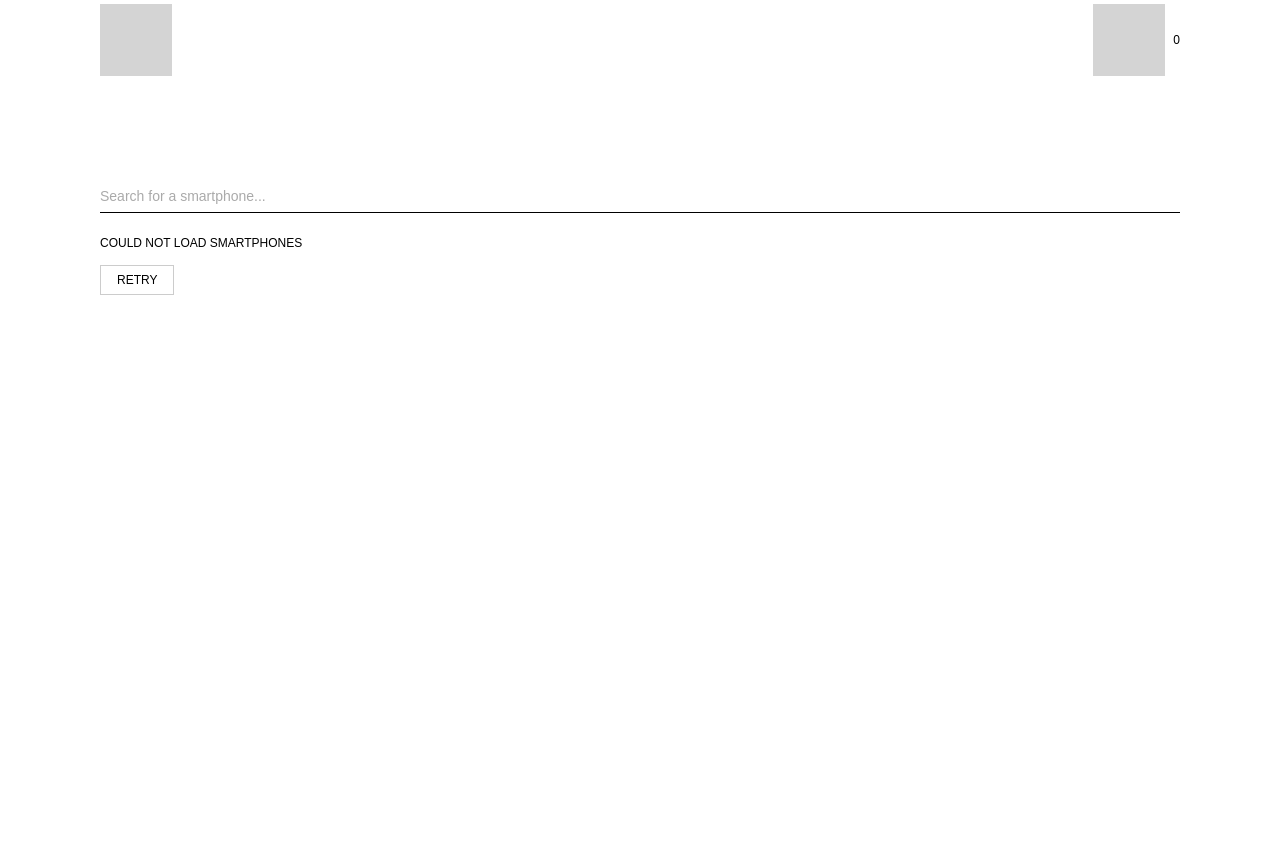
Test: catalog error state › shows the alert and RETRY, then recovers and focuses the search
The image size is (1280, 862).
expect the message reads "COULD NOT LOAD SMARTPHONES": met, box [100,236,302,250]
expect the text "RESULTS" is not shown: met
Click the button "RETRY".
click(137, 280)  # box [100,265,174,295]
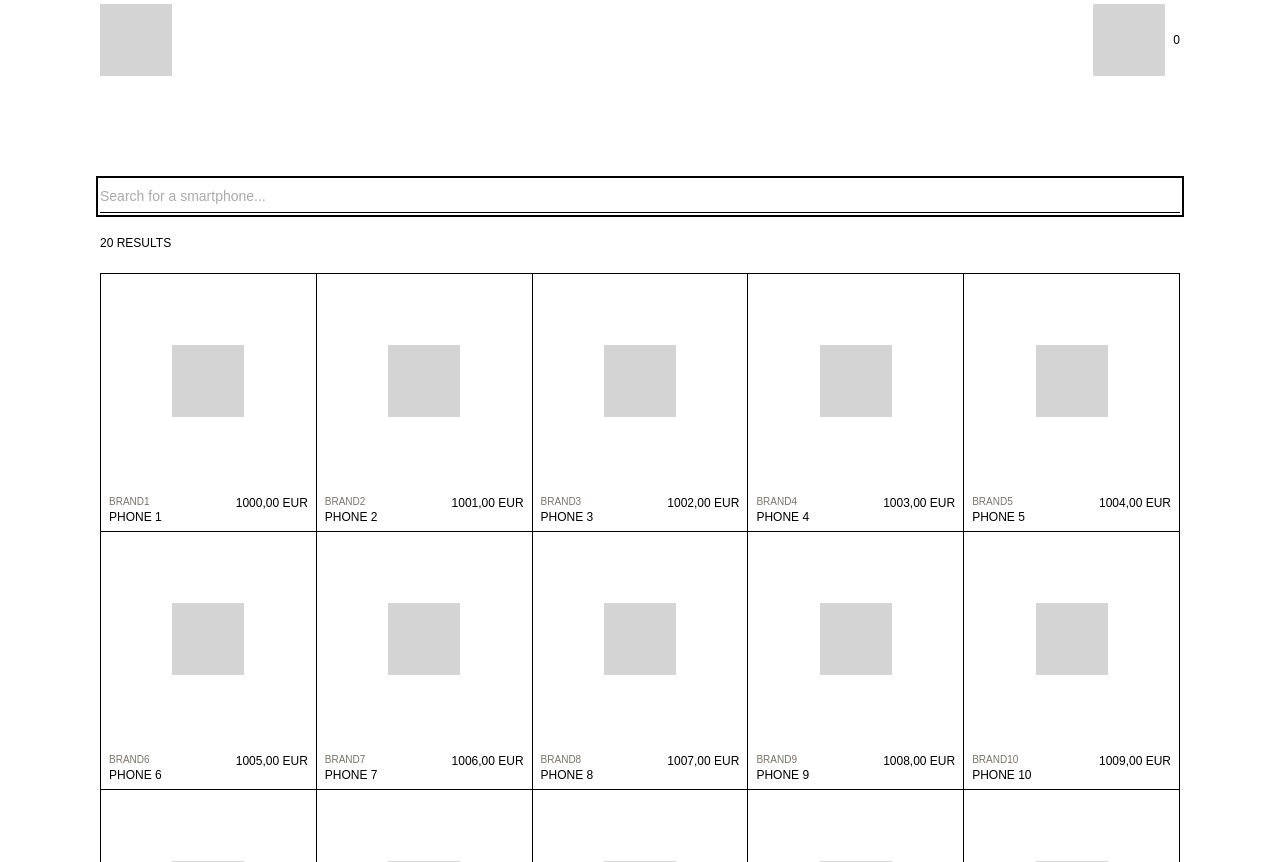
expect the text "20 RESULTS" is shown: met, box [100,236,171,250]
